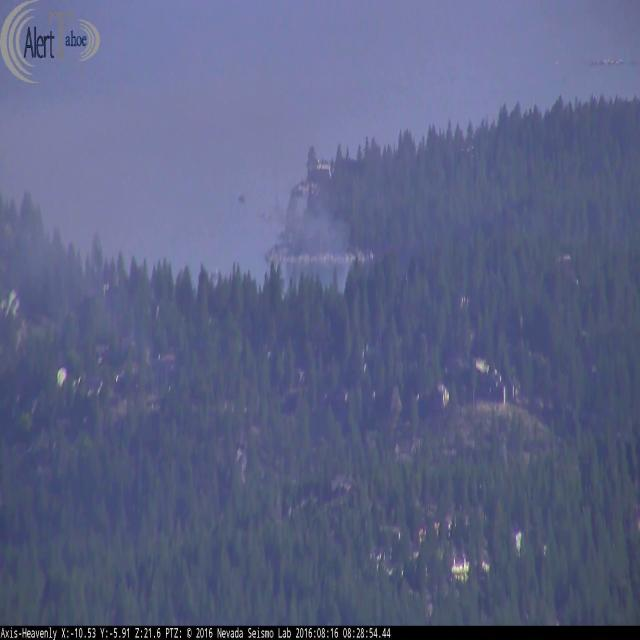smoke: (0, 193, 125, 327), (264, 192, 352, 294)
